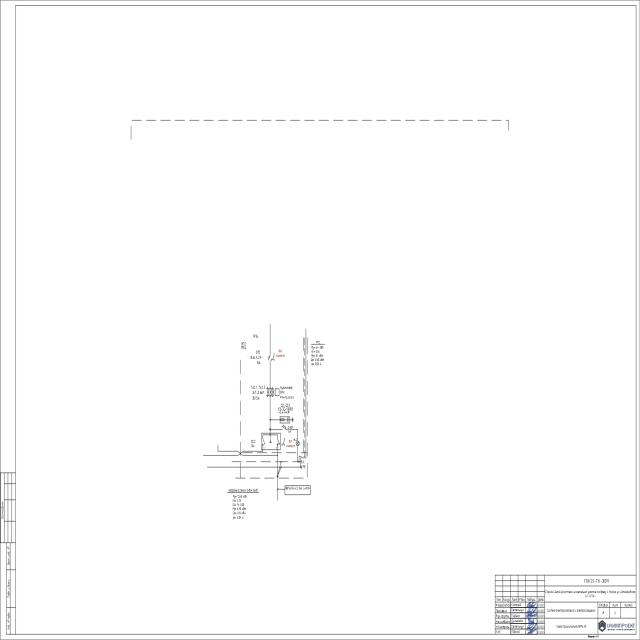-: (280, 385, 294, 400), (251, 390, 265, 401), (250, 354, 262, 365), (286, 439, 296, 448), (276, 349, 285, 358), (287, 424, 294, 434), (240, 342, 247, 350), (250, 444, 255, 448)
AUX: (281, 437, 286, 447), (271, 352, 275, 363)
HL: (296, 440, 300, 447)
PM: (274, 387, 280, 397)
QF: (281, 424, 287, 431), (268, 354, 272, 363)
TT: (266, 386, 274, 398)
switch: (262, 438, 280, 447)
